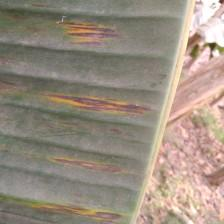sigatoka: (0, 0, 191, 224)
